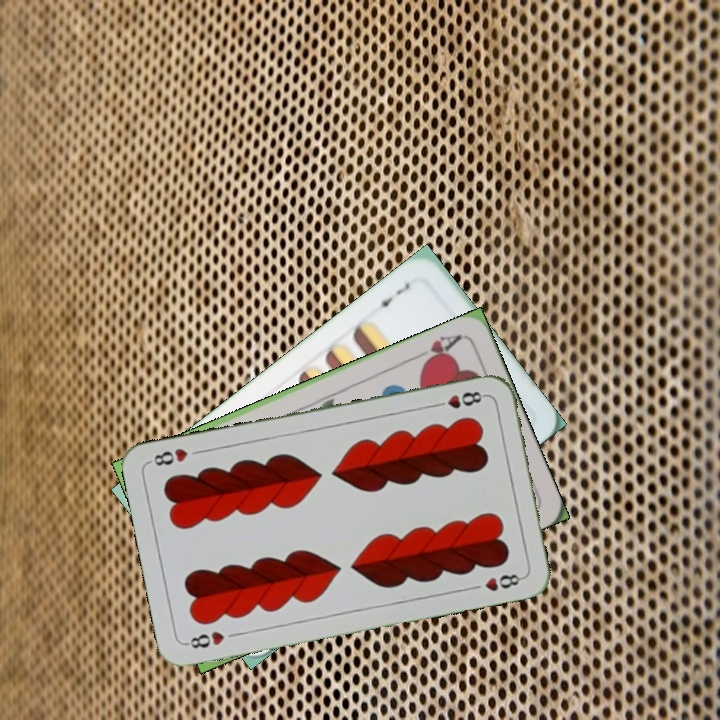E7: (370, 279, 413, 312)
H8: (430, 387, 489, 411), (182, 627, 227, 651)
HA: (409, 330, 465, 369)
